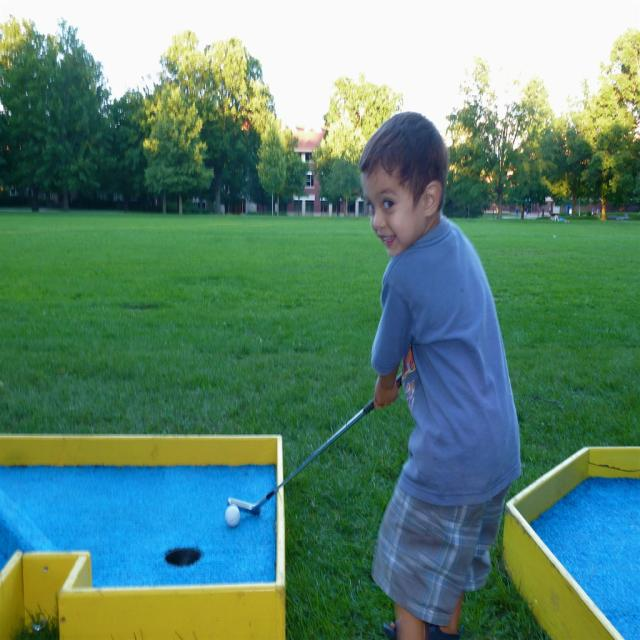Ball: (225, 506, 240, 527)
